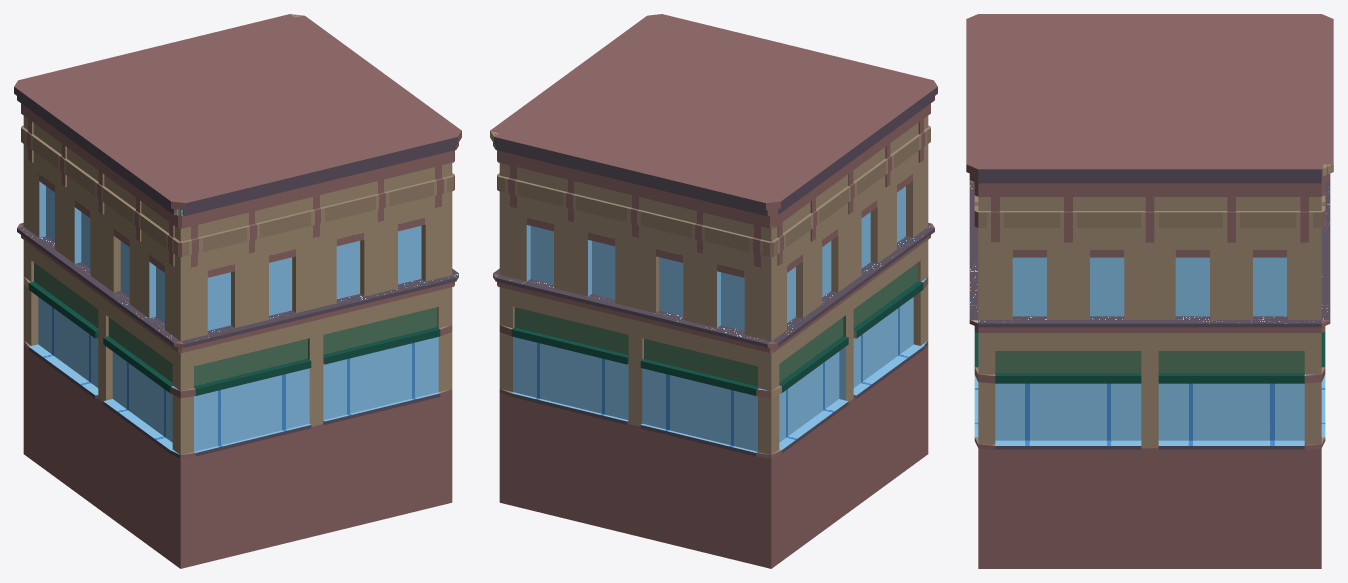
Rendered from building2.glb.
3 views of the same model, side by side, from view 1: azimuth 30°, elevation 25°; view 2: azimuth 150°, elevation 25°; view 3: azimuth 270°, elevation 25° (orthographic). The views are drawn at different scales.
Parts seen in each view (by area): view 1: 2; view 2: 2; view 3: 2.
Boxes of the visible parts, bbox=[...] form: 2: bbox=[14, 14, 461, 568]; 2: bbox=[490, 14, 937, 568]; 2: bbox=[966, 14, 1333, 568].
Size of the model in its own units: 10.7 by 13 by 10.7.
4 materials, 4 textured.
